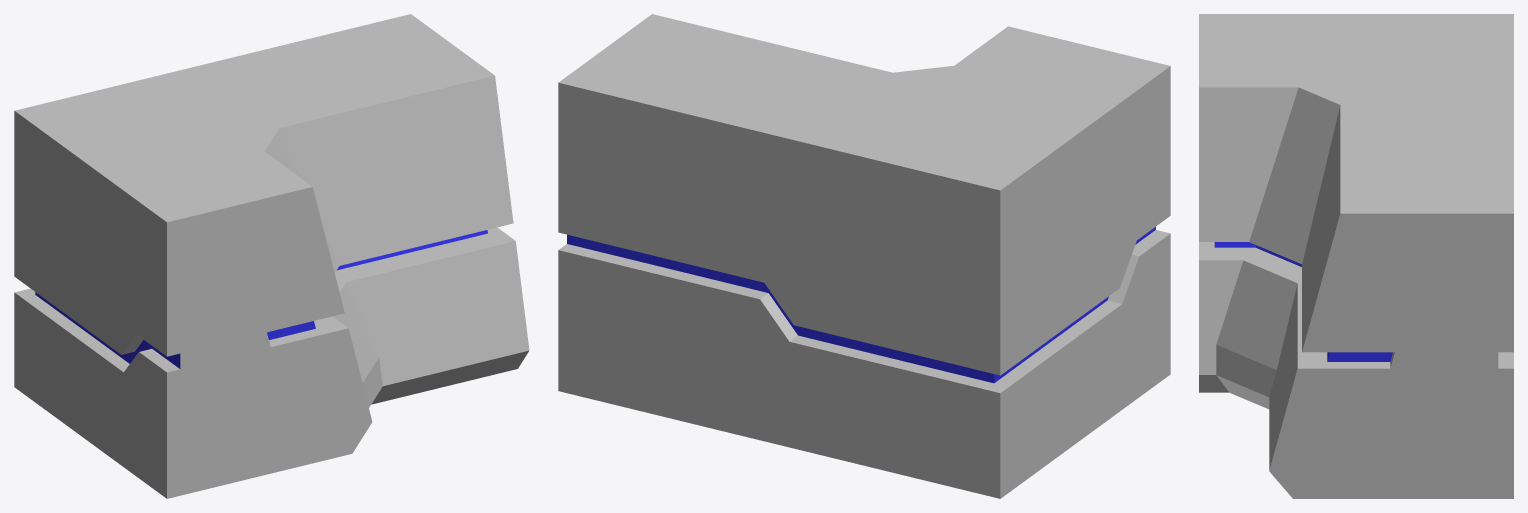
The model's file is x_ZAMOK_ZABOR_wall_part15_corner1_rmstrd.fbx.
3 renders of one model, left to right at view 1: azimuth 30°, elevation 25°; view 2: azimuth 150°, elevation 25°; view 3: azimuth 270°, elevation 25°, orthographic. The views are drawn at different scales.
Visible parts, largest first — view 1: x_ZAMOK_ZABOR_wall_part15_corner1_rmstrd1; view 2: x_ZAMOK_ZABOR_wall_part15_corner1_rmstrd1; view 3: x_ZAMOK_ZABOR_wall_part15_corner1_rmstrd1.
Boxes of the visible parts, <box> form: x_ZAMOK_ZABOR_wall_part15_corner1_rmstrd1: <box>14,14,529,498</box>; x_ZAMOK_ZABOR_wall_part15_corner1_rmstrd1: <box>558,14,1170,498</box>; x_ZAMOK_ZABOR_wall_part15_corner1_rmstrd1: <box>1199,14,1513,498</box>.
Bounding box in the file's own units: 3 × 2 × 2.
